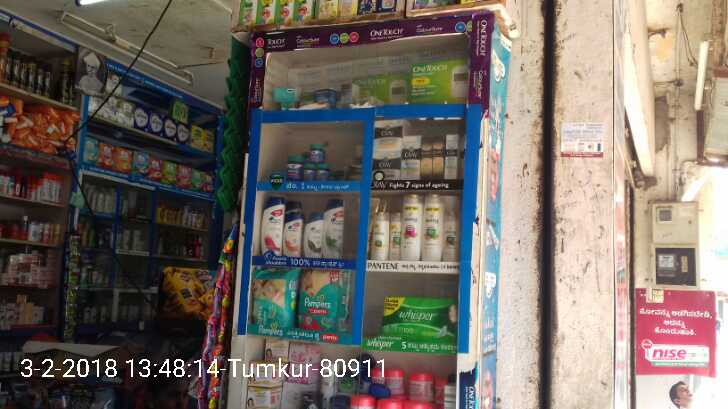beauty: (419, 194, 444, 266), (318, 198, 342, 261), (400, 187, 417, 268), (257, 199, 281, 255), (399, 134, 422, 183), (443, 136, 462, 192), (420, 134, 441, 182), (301, 206, 321, 255), (369, 152, 405, 179), (376, 116, 404, 150), (281, 209, 300, 253), (372, 214, 388, 261)
pharmacy: (294, 266, 353, 331), (378, 294, 458, 340), (247, 270, 294, 331), (287, 159, 337, 183), (304, 140, 324, 160)
